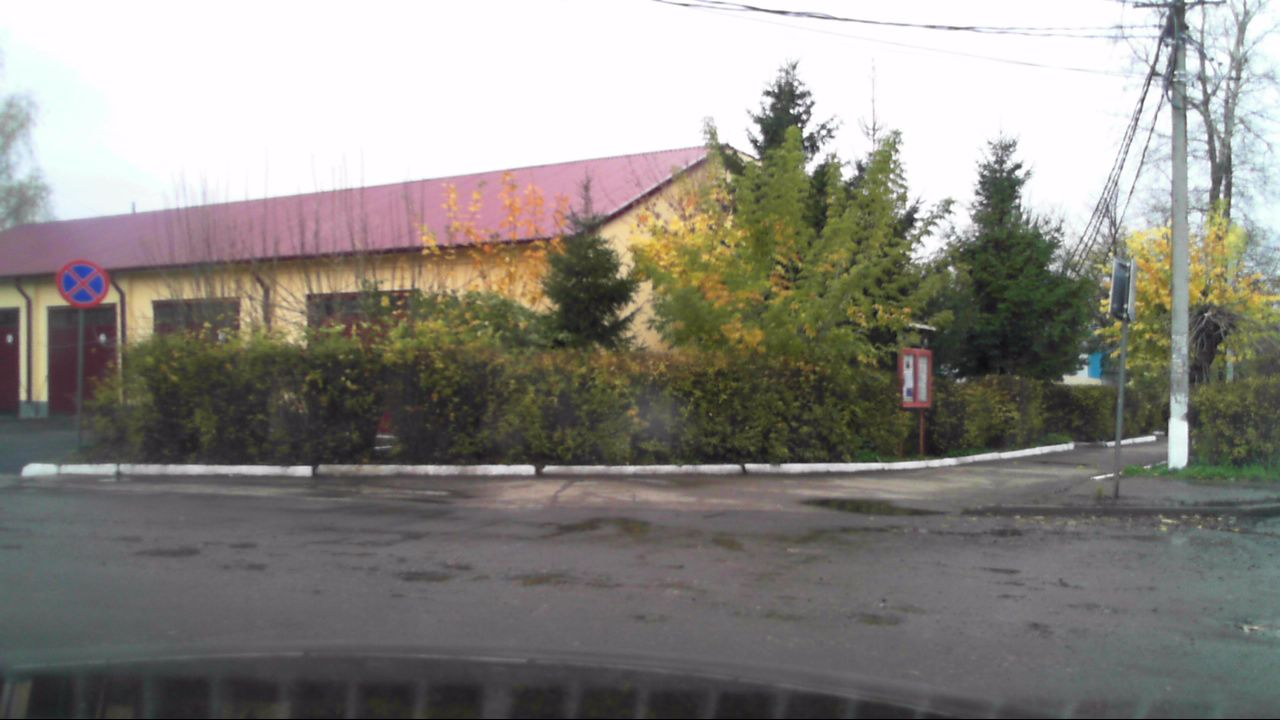No Parking: (55, 258, 112, 314)
